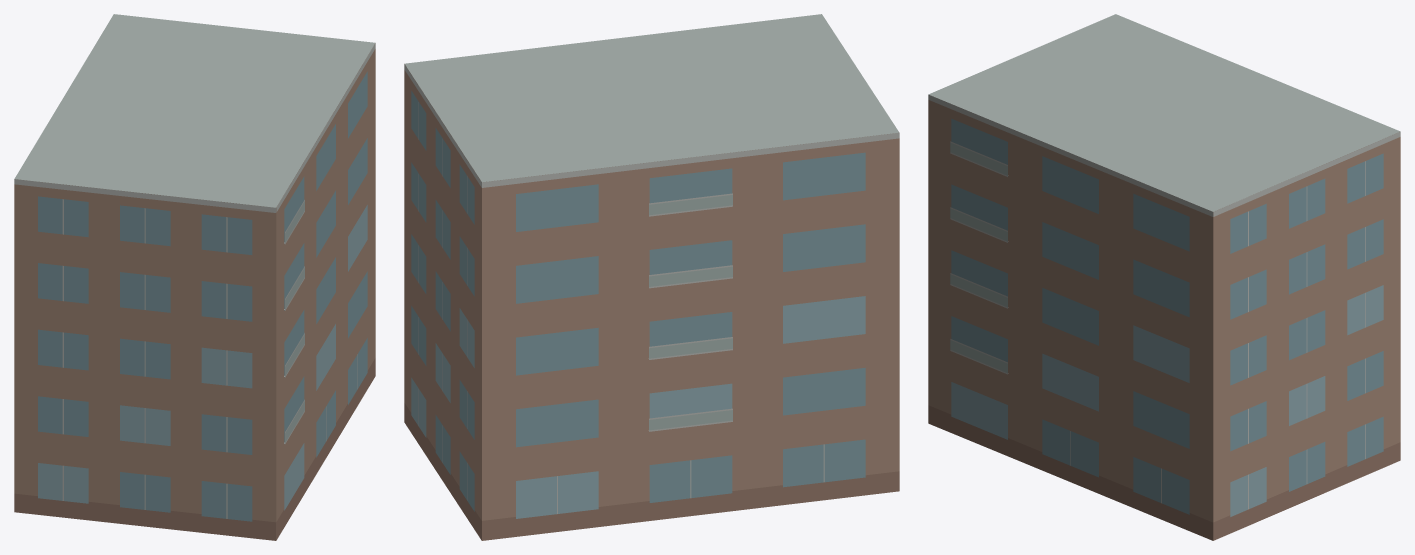
File: survey-upis-32845331.glb
The picture shows the model from 3 angles, left to right: view 1: azimuth 30°, elevation 25°; view 2: azimuth 150°, elevation 25°; view 3: azimuth 270°, elevation 25°; orthographic projection. The views are drawn at different scales.
Visible parts, largest first — view 1: survey-upis-32845331.tmp; view 2: survey-upis-32845331.tmp; view 3: survey-upis-32845331.tmp.
Boxes of the visible parts, x1,y1,x2,y2 form: survey-upis-32845331.tmp: (14, 14, 375, 540); survey-upis-32845331.tmp: (404, 14, 899, 540); survey-upis-32845331.tmp: (928, 14, 1400, 540).
Bounding box in the file's own units: 19.68 × 15.25 × 19.85.
